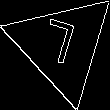L_S: (41, 17, 84, 74)
